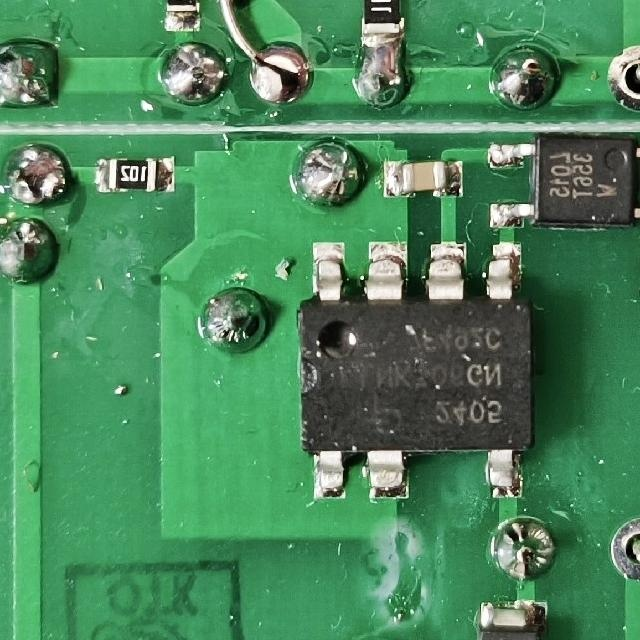chip-capacitor: (379, 154, 465, 198)
chip-resistor: (91, 153, 177, 192)
ic: (293, 236, 539, 504), (483, 133, 640, 231)
